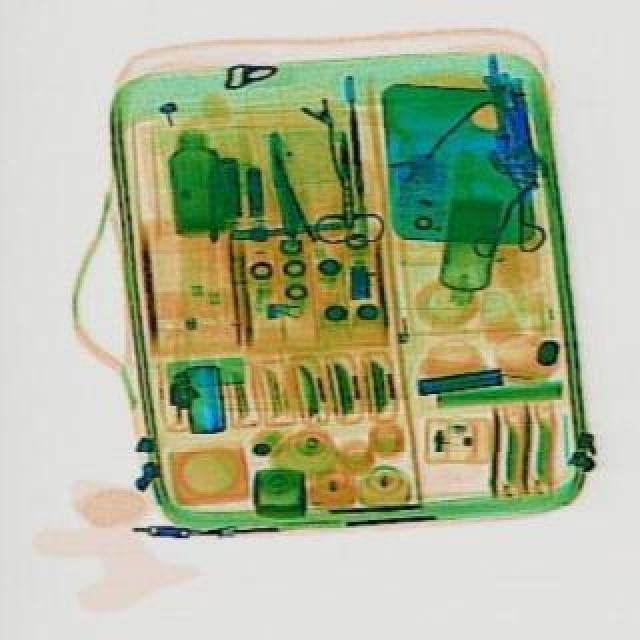pliers: (304, 128, 384, 244)
